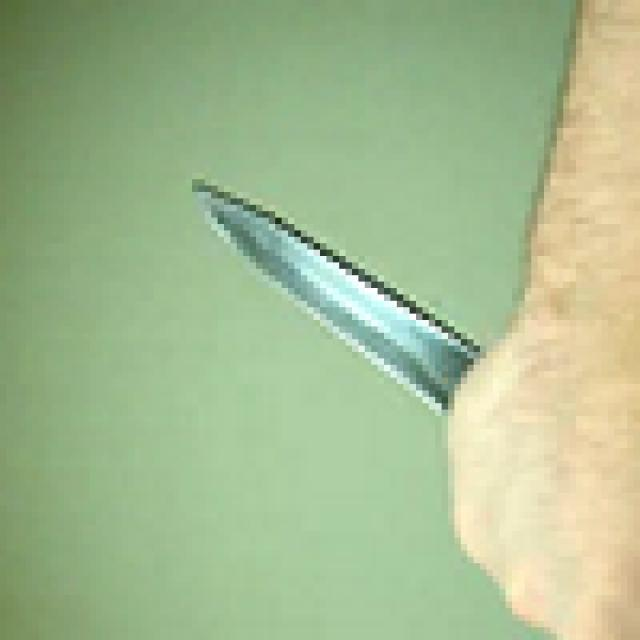Knife: (192, 153, 550, 454)
